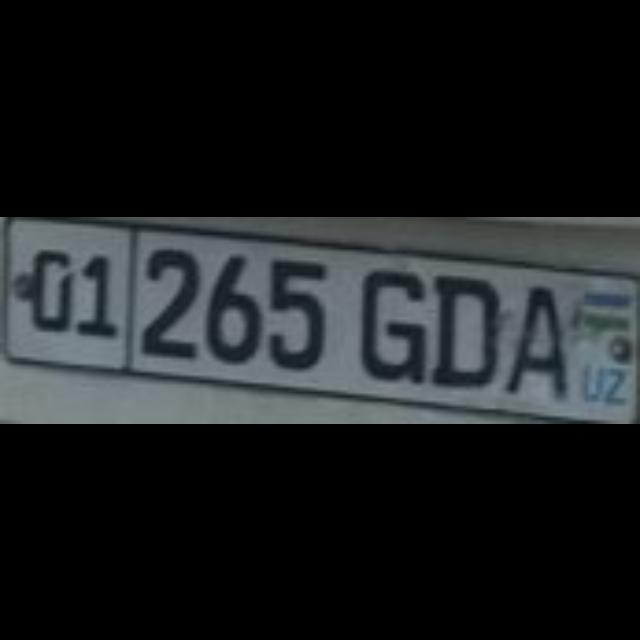0: (26, 242, 70, 326)
1: (70, 250, 114, 330)
2: (137, 242, 196, 352)
5: (266, 252, 322, 368)
6: (200, 250, 258, 360)
A: (503, 278, 562, 389)
D: (426, 268, 496, 382)
G: (355, 264, 425, 378)
